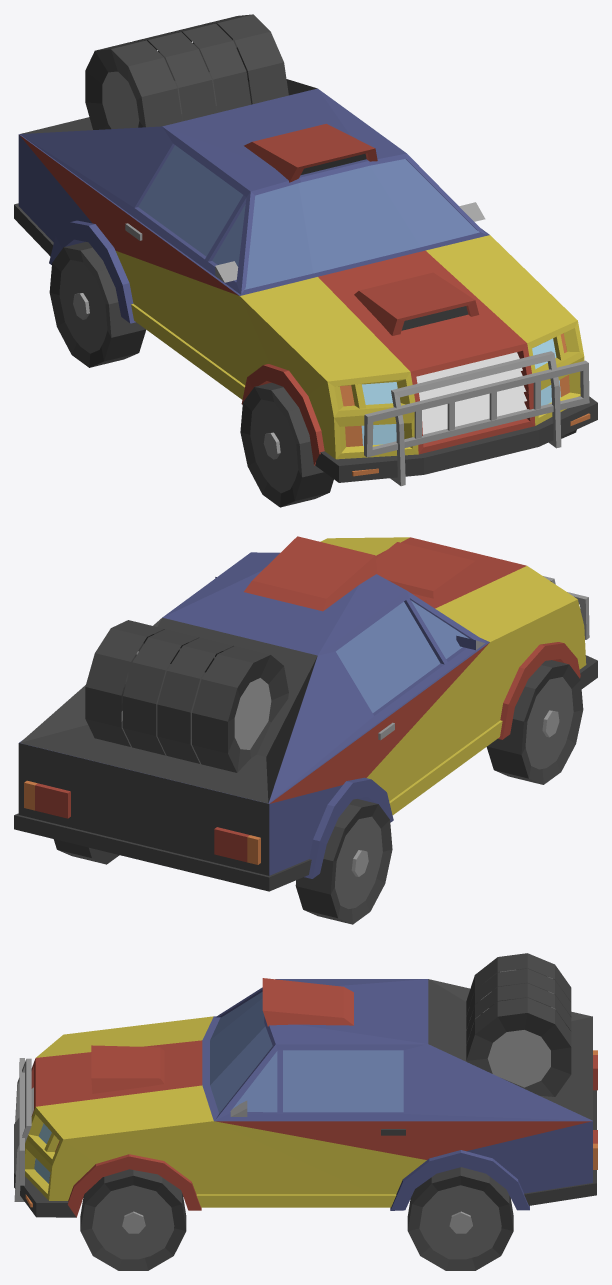
The model's file is transport_jeep_010.fbx.
3 views of the same model, one above another, from view 1: azimuth 30°, elevation 25°; view 2: azimuth 150°, elevation 25°; view 3: azimuth 270°, elevation 25° (orthographic). The views are drawn at different scales.
Visible parts, largest first — view 1: transport_jeep_010; view 2: transport_jeep_010; view 3: transport_jeep_010.
Part boxes in pixels (<box>): transport_jeep_010: <box>14,14,597,507</box>; transport_jeep_010: <box>14,536,597,924</box>; transport_jeep_010: <box>14,953,597,1270</box>.
Size of the model in its own units: 176 by 159 by 368.
